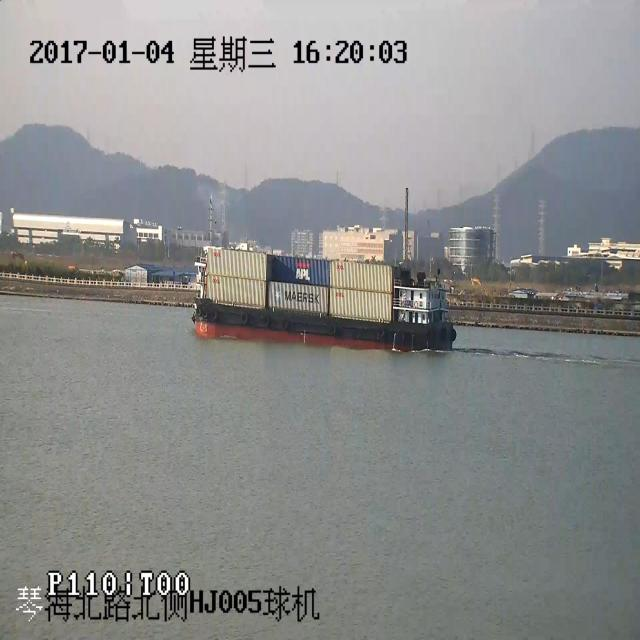cargoship: (185, 212, 462, 351)
